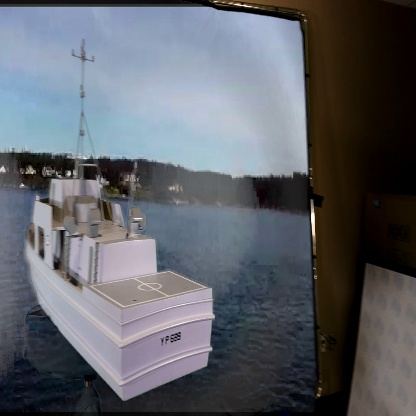YP689: (24, 37, 215, 399)
